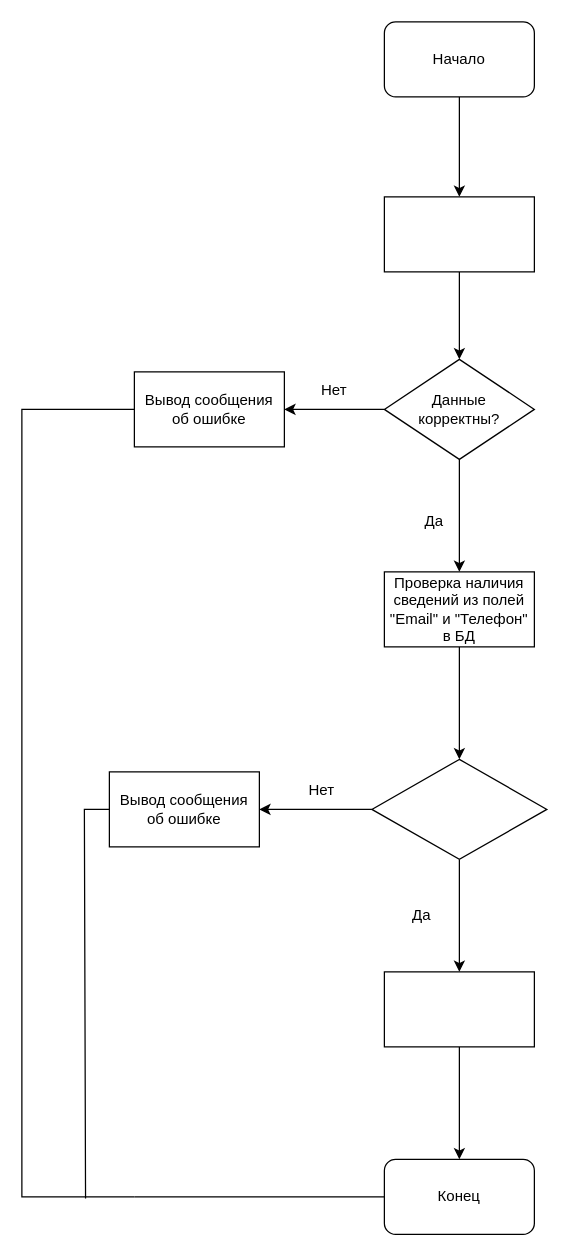
The diagram is 569 pixels wide and 1256 high, and some of its shapes have lost their labels. Here are the shapes that lost their labels. From the top down, the centre of each, then its label:
point (458, 234): Пользователь нажал кнопку "Отменить бронирование"
point (459, 808): Данные обнаружены в БД?
point (458, 1009): Вывод сообщения об отмене заказа
